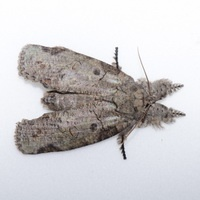insect: (15, 44, 183, 153)
